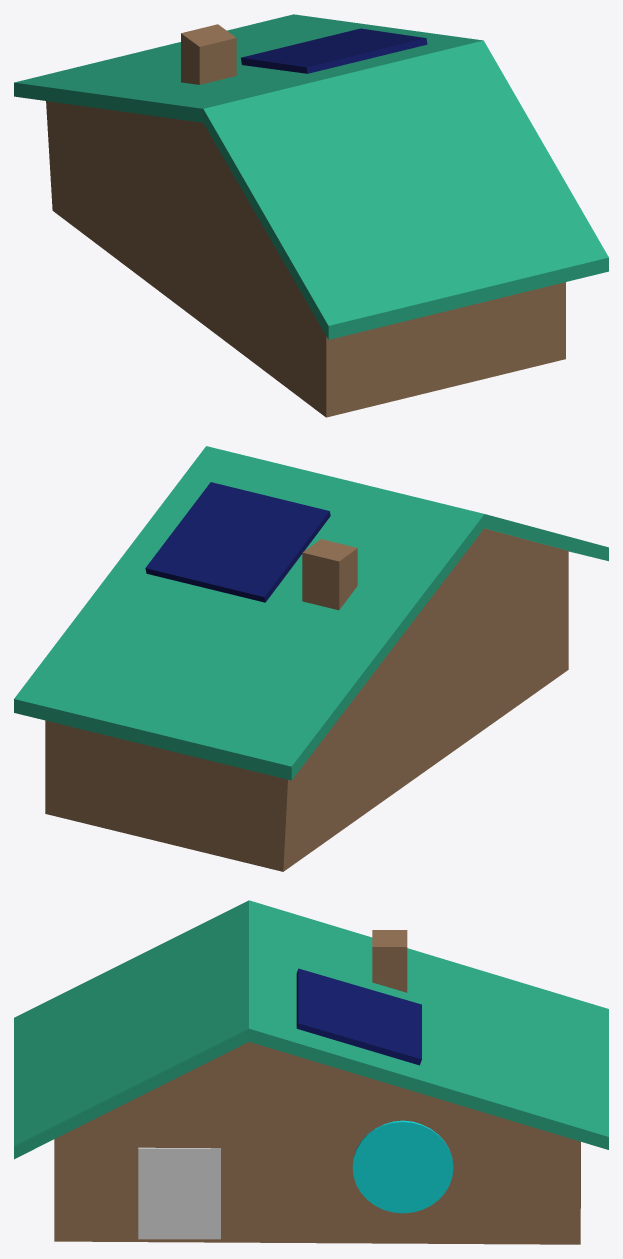
The model's file is smart-home.glb.
3 views of the same model, one above another, from view 1: azimuth 30°, elevation 25°; view 2: azimuth 150°, elevation 25°; view 3: azimuth 270°, elevation 25° (orthographic). The views are drawn at different scales.
Visible parts, largest first — view 1: roof, base, solar, chimney; view 2: roof, base, solar, chimney; view 3: roof, base, solar, door, window, chimney.
Boxes of the visible parts, x1,y1,x2,y2 form: roof: (14,14,608,339); base: (46,101,565,417); solar: (241,28,427,73); chimney: (181,24,236,84); roof: (14,446,608,780); base: (45,528,568,871); solar: (145,482,330,602); chimney: (302,539,357,610); roof: (14,900,608,1159); base: (54,1042,580,1244); solar: (296,968,421,1065); door: (138,1147,220,1239); window: (352,1120,453,1213); chimney: (372,930,407,992).
Bounding box in the file's own units: 4.71 × 3.79 × 9.17.
